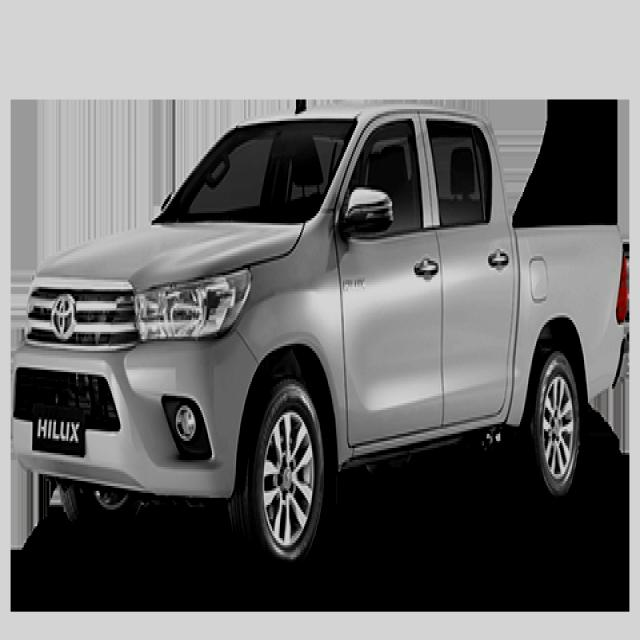CMT: (27, 107, 634, 559)
